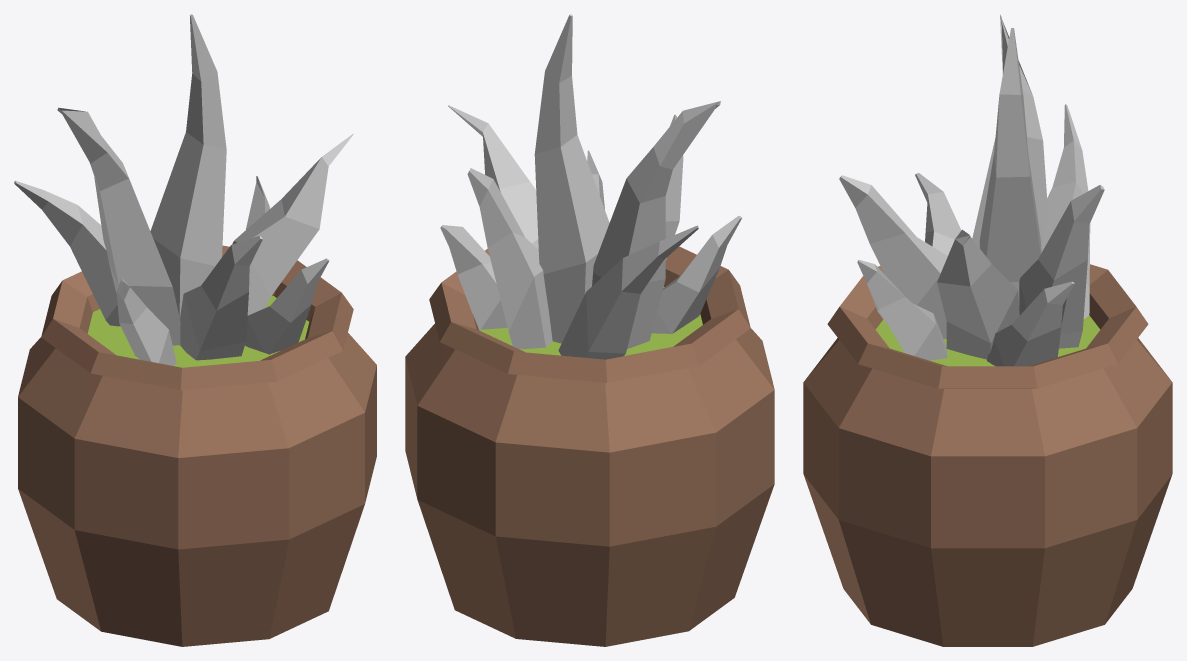
The model's file is pot2.fbx.
The picture shows the model from 3 angles, left to right: view 1: azimuth 30°, elevation 25°; view 2: azimuth 150°, elevation 25°; view 3: azimuth 270°, elevation 25°; orthographic projection. The views are drawn at different scales.
Parts seen in each view (by area): view 1: Circle, grass tuft; view 2: Circle, grass tuft; view 3: Circle, grass tuft.
Part boxes in pixels (left/top/right/bottom): Circle: left=18, top=245, right=376, bottom=646; grass tuft: left=14, top=14, right=353, bottom=365; Circle: left=405, top=246, right=774, bottom=646; grass tuft: left=440, top=14, right=741, bottom=359; Circle: left=803, top=264, right=1172, bottom=646; grass tuft: left=839, top=14, right=1104, bottom=366.
Bounding box in the file's own units: 237 × 421 × 250.
